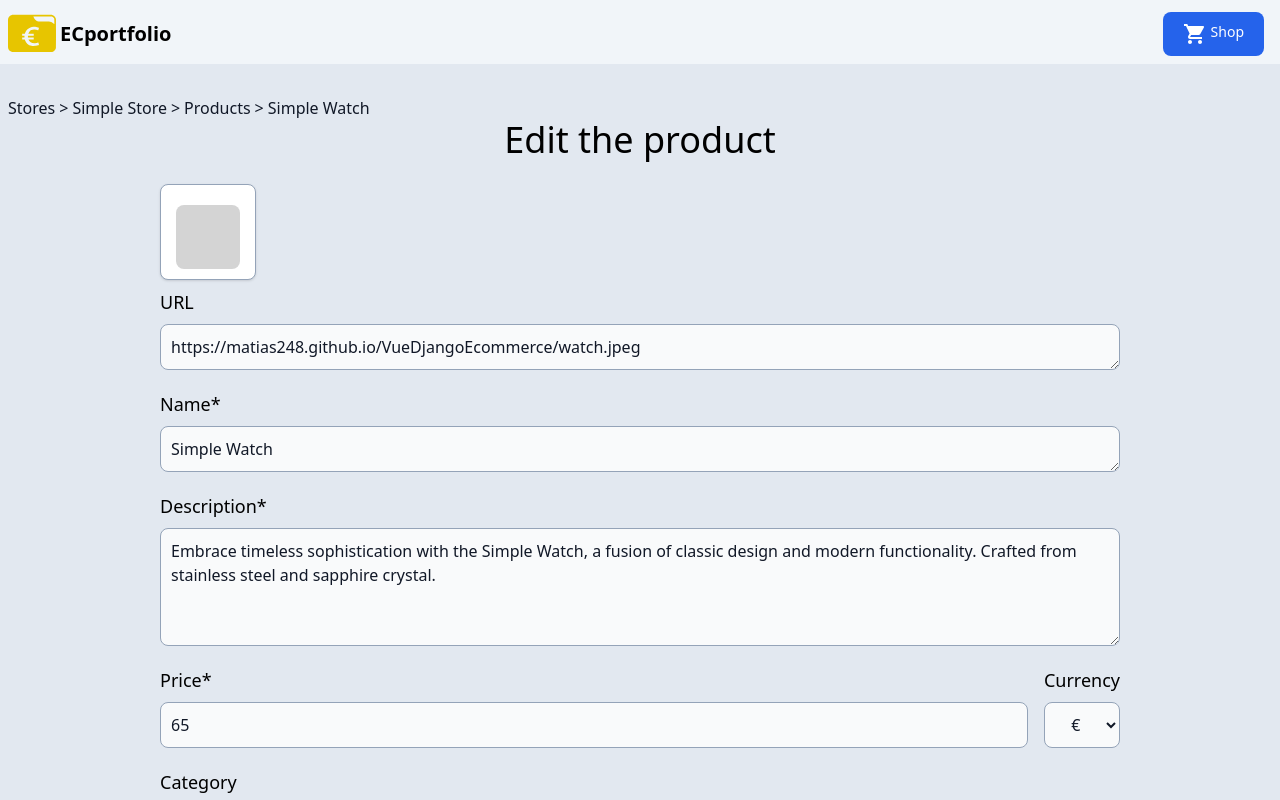
Test: Navigation bar test › In Product form to product list
This screenshot has width=1280, height=800.
Click the text with id "NavProductsTitle" at (218, 108), box [184, 96, 251, 120]
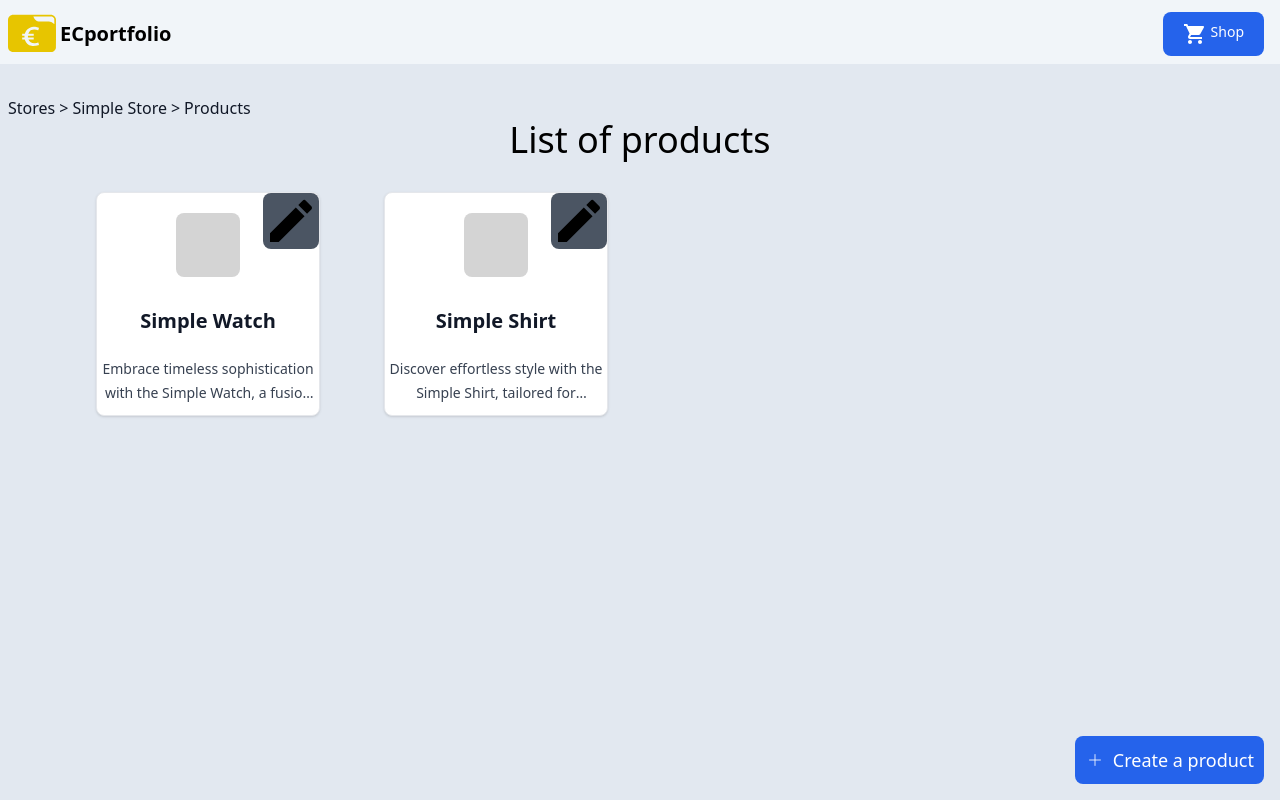
Result: the text "List of products" is shown at [509, 115, 771, 164]
